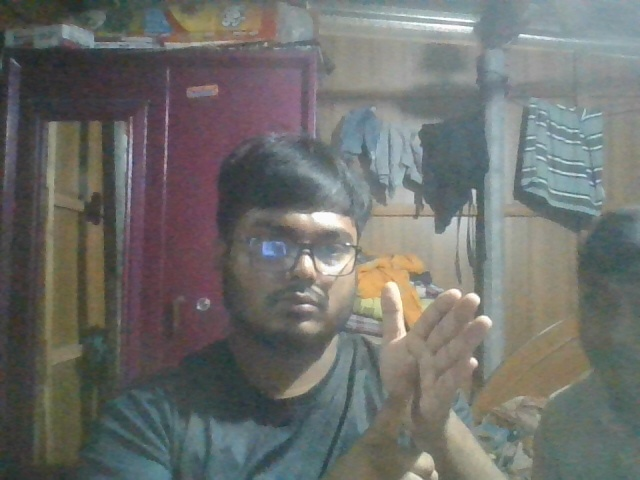r: (345, 280, 509, 480)
